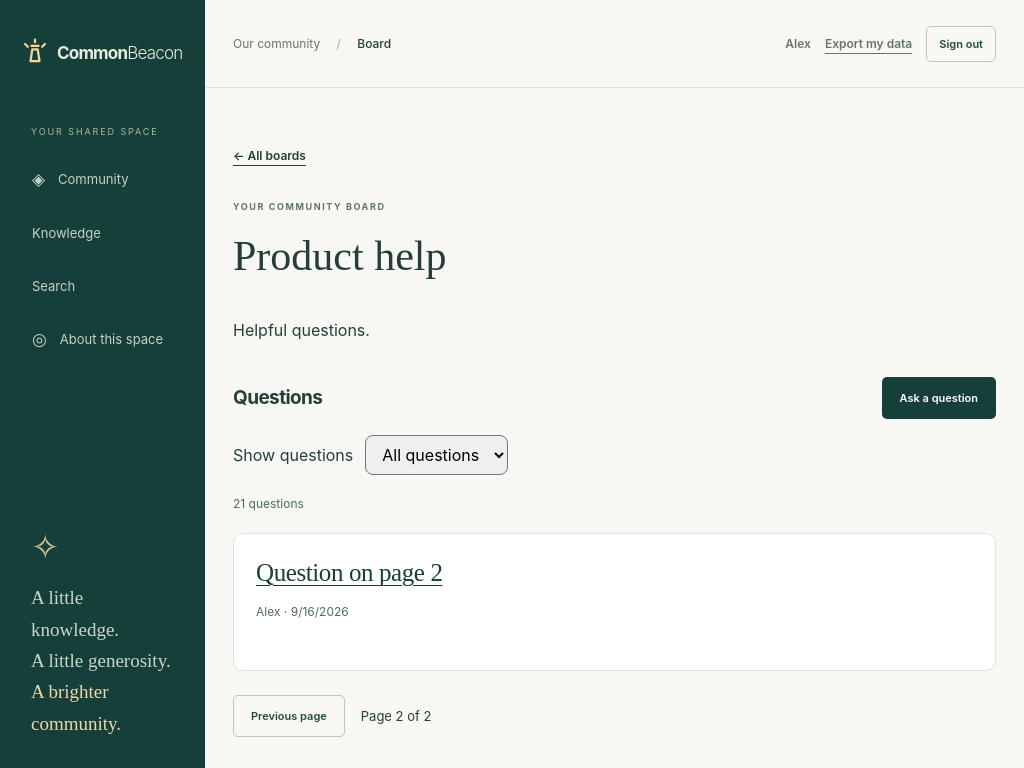
resets pagination when filtering and preserves the filter between pages
expect the link "Question on page 2" is shown: met, box [256,558,442,586]
Select "Solved" in the dropdown labelled "Show questions": (437, 455) [365,435,508,475]
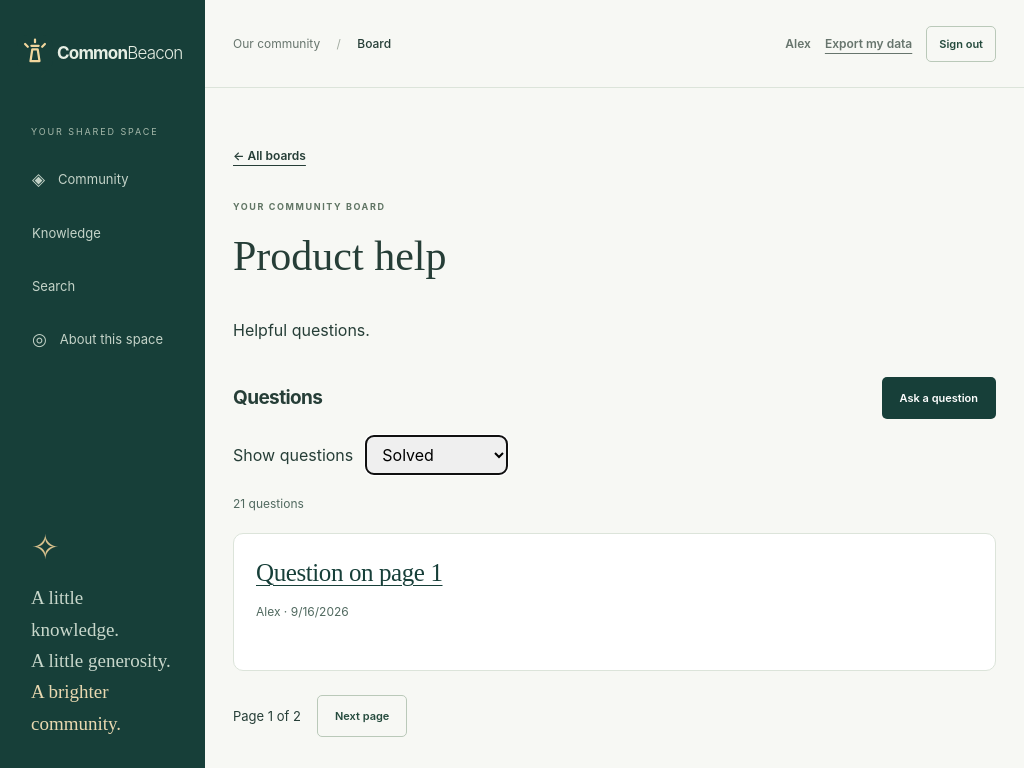
expect the link "Question on page 1" is shown: met, box [256,558,442,586]
Click the link "Next page": (362, 716) [317,695,407,737]
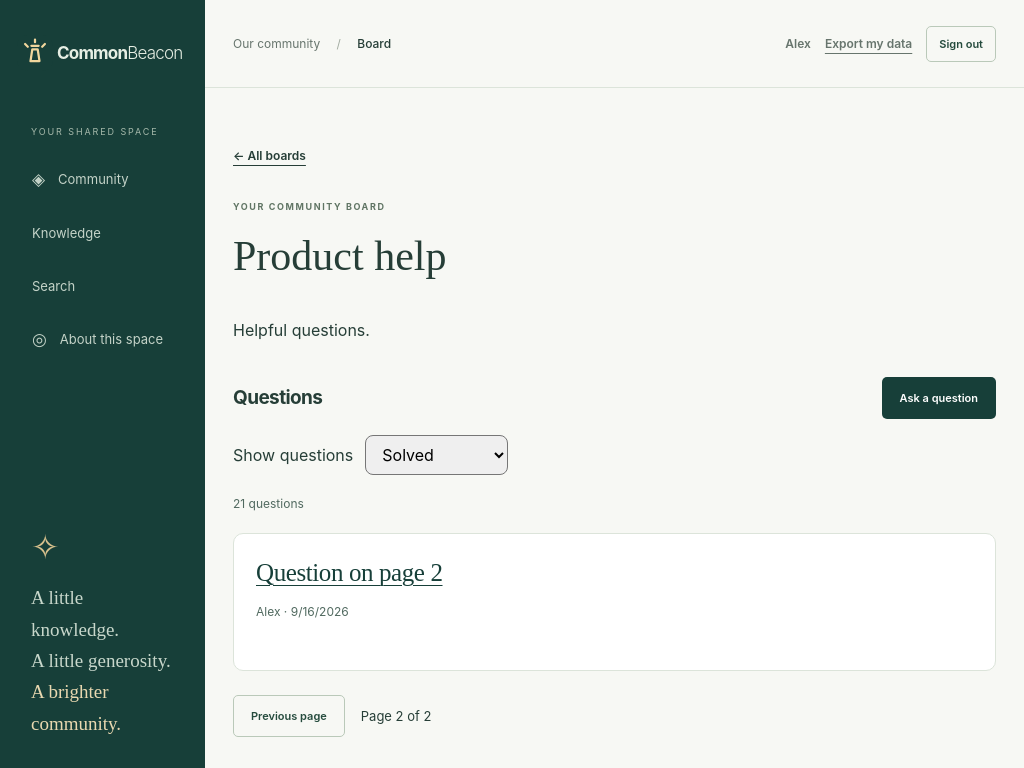
expect the link "Question on page 2" is shown: met, box [256,558,442,586]
